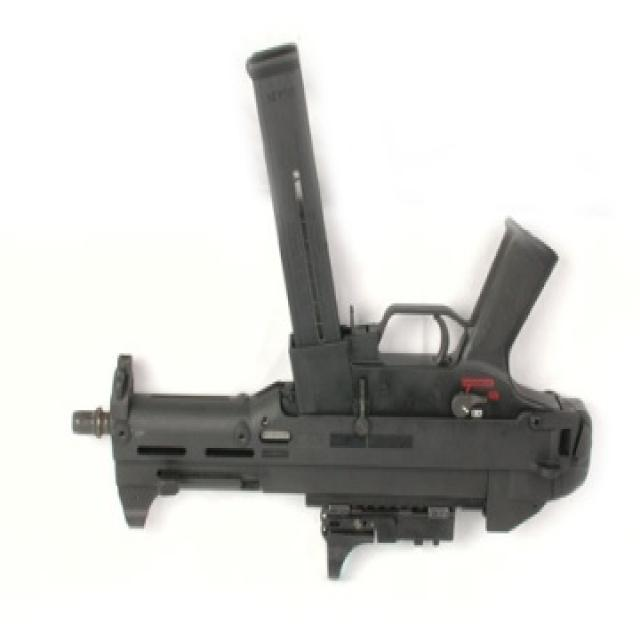Gun: (34, 35, 606, 568)
